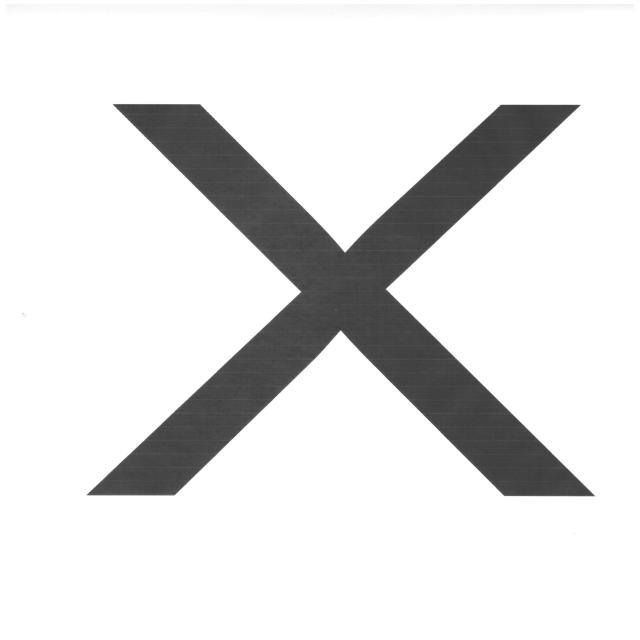x: (79, 91, 595, 512)
